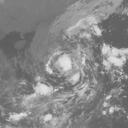cyclone: (23, 14, 119, 119)
